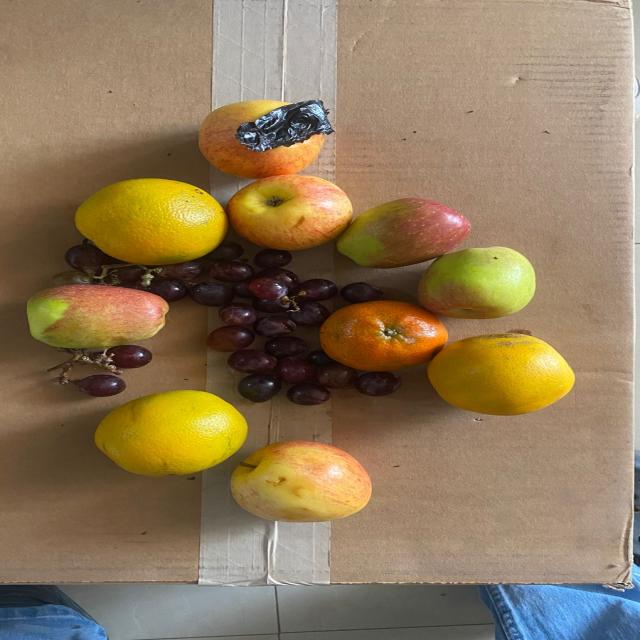bolsa_negra: (232, 99, 340, 154)
